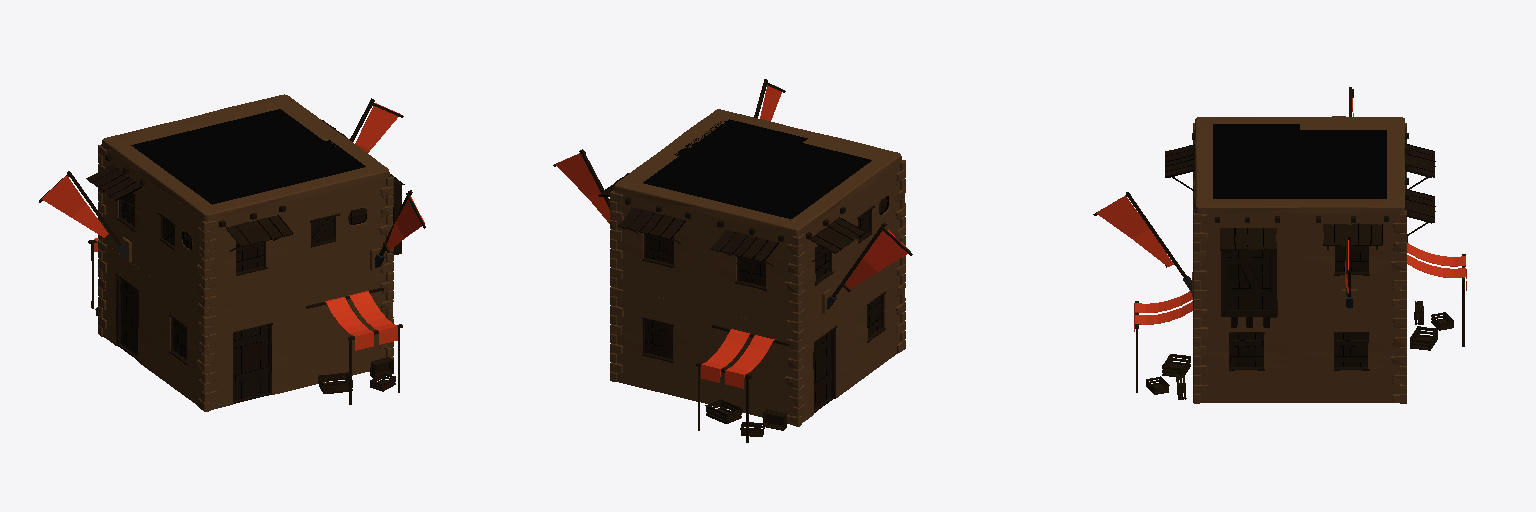
Rendered from Hij2.obj.
The picture shows the model from 3 angles: view 1: azimuth 30°, elevation 25°; view 2: azimuth 150°, elevation 25°; view 3: azimuth 270°, elevation 25°; orthographic projection.
Parts seen in each view (by area): view 1: building_base; view 2: building_base; view 3: building_base.
Boxes of the visible parts, x1=… form: building_base: x1=39, y1=94, x2=425, y2=411; building_base: x1=553, y1=79, x2=912, y2=442; building_base: x1=1093, y1=87, x2=1466, y2=403.
Size of the model in its own units: 11.97 by 6.45 by 10.68.